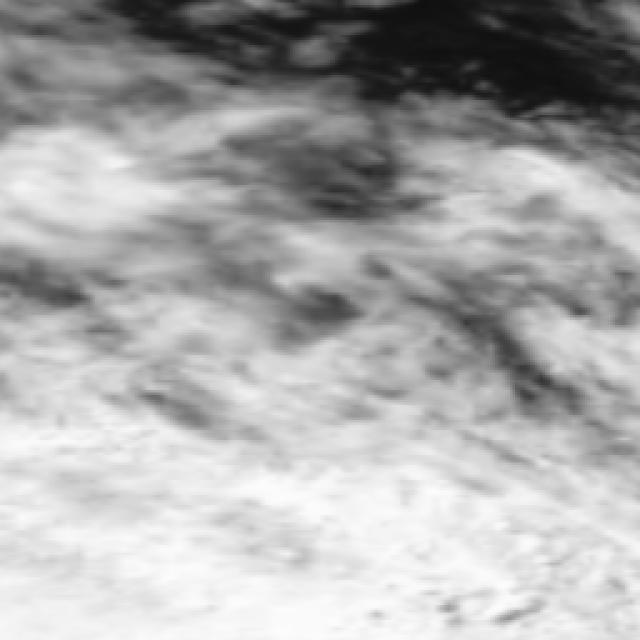CB: (72, 527, 413, 640)
